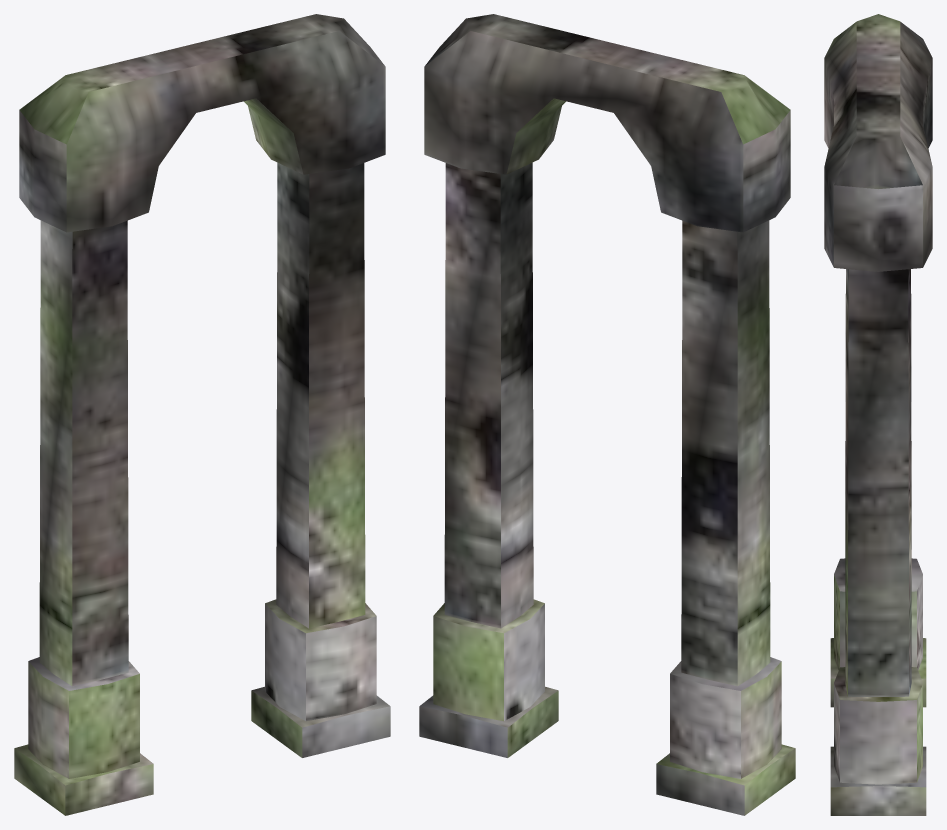
File: 2_pillars.obj
The picture shows the model from 3 angles, left to right: view 1: azimuth 30°, elevation 25°; view 2: azimuth 150°, elevation 25°; view 3: azimuth 270°, elevation 25°; orthographic projection. The views are drawn at different scales.
Visible parts, largest first — view 1: Cube_Cube.002; view 2: Cube_Cube.002; view 3: Cube_Cube.002.
Boxes of the visible parts, bbox=[...] form: Cube_Cube.002: bbox=[14, 14, 390, 815]; Cube_Cube.002: bbox=[419, 14, 795, 815]; Cube_Cube.002: bbox=[824, 14, 932, 815].
Bounding box in the file's own units: 2 × 4 × 0.5912.
